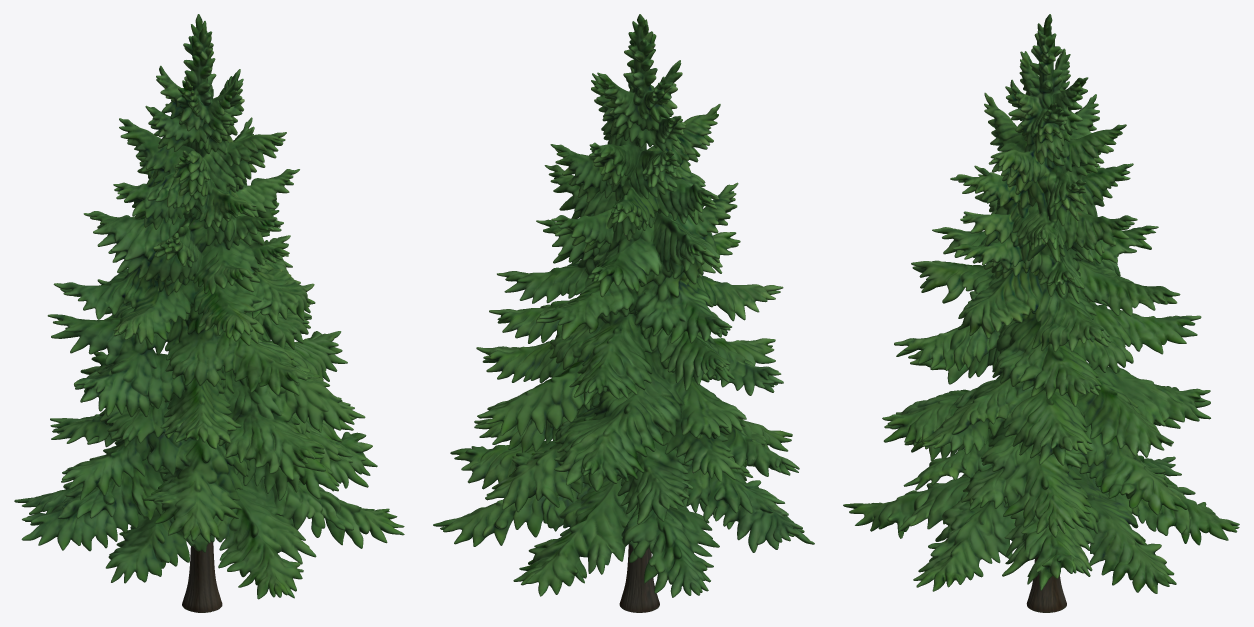
The model's file is pine_tree_3d_model.fbx.
3 renders of one model, left to right at view 1: azimuth 30°, elevation 25°; view 2: azimuth 150°, elevation 25°; view 3: azimuth 270°, elevation 25°, orthographic.
Visible parts, largest first — view 1: tripo_node_091466e6; view 2: tripo_node_091466e6; view 3: tripo_node_091466e6.
Part boxes in pixels (x1=…): tripo_node_091466e6: x1=14, y1=14, x2=404, y2=612; tripo_node_091466e6: x1=433, y1=14, x2=814, y2=612; tripo_node_091466e6: x1=843, y1=14, x2=1239, y2=612.
Size of the model in its own units: 0.6156 by 0.981 by 0.5984.
